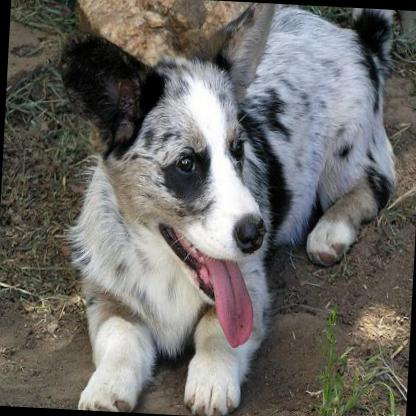Cardigan: (43, 0, 403, 416)
